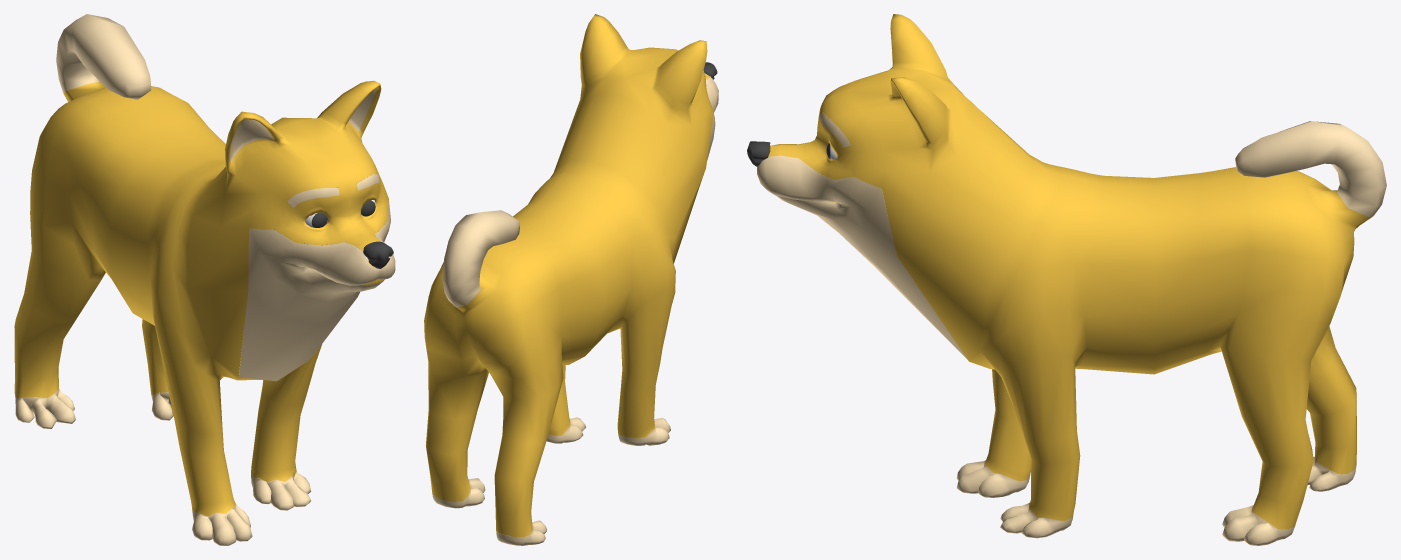
The model's file is dogue.glb.
3 renders of one model, left to right at view 1: azimuth 30°, elevation 25°; view 2: azimuth 150°, elevation 25°; view 3: azimuth 270°, elevation 25°, orthographic. The views are drawn at different scales.
Parts seen in each view (by area): view 1: body, nose, eyes; view 2: body; view 3: body.
Part boxes in pixels (<box>): body: <box>14,14,395,545</box>; nose: <box>363,241,393,268</box>; eyes: <box>305,200,375,227</box>; body: <box>424,14,718,545</box>; body: <box>757,14,1386,545</box>.
Bounding box in the file's own units: 0.7282 × 1.83 × 2.31.
